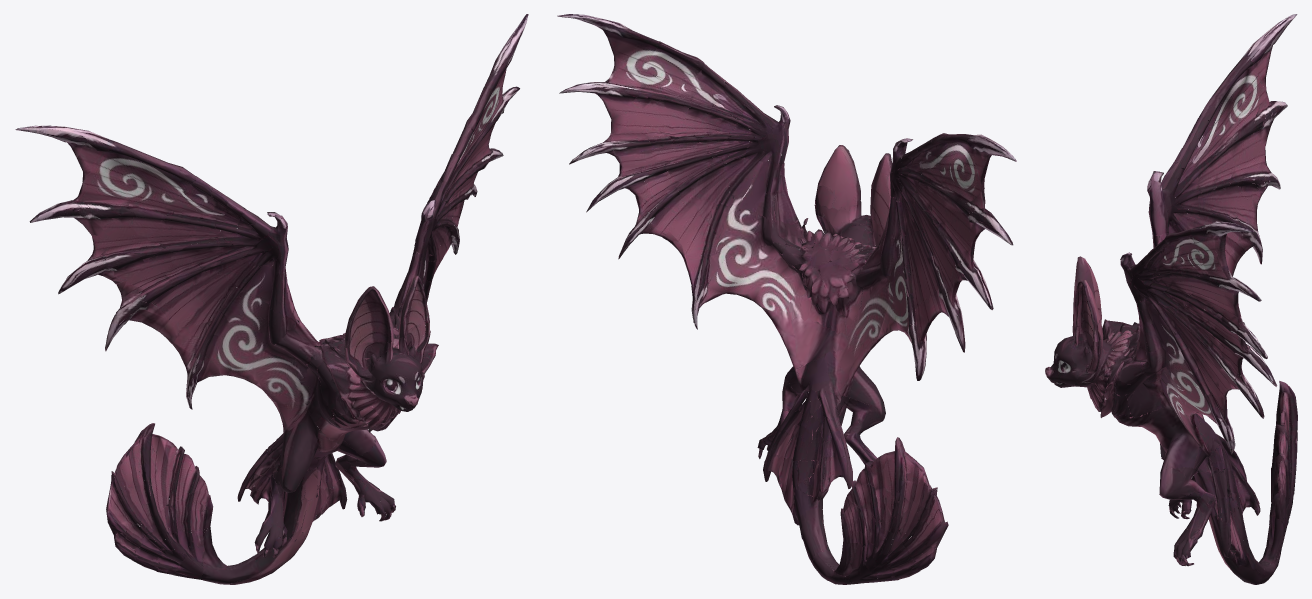
3 renders of one model, left to right at view 1: azimuth 30°, elevation 25°; view 2: azimuth 150°, elevation 25°; view 3: azimuth 270°, elevation 25°, orthographic. The views are drawn at different scales.
Parts seen in each view (by area): view 1: Mesh_0; view 2: Mesh_0; view 3: Mesh_0.
Part boxes in pixels (x1=…): Mesh_0: x1=15, y1=14, x2=528, y2=584; Mesh_0: x1=557, y1=14, x2=1016, y2=584; Mesh_0: x1=1045, y1=14, x2=1297, y2=584.
Bounding box in the file's own units: 1.9 × 1.86 × 0.8834.
Materials: 1 (1 with a texture image).
